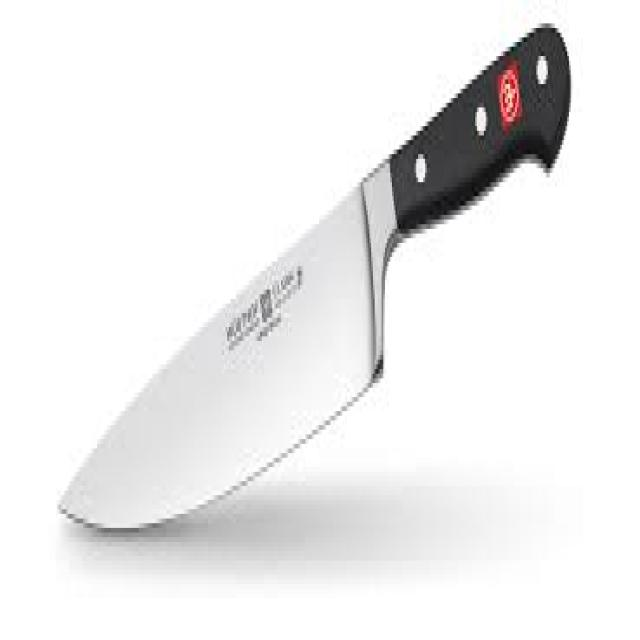knives: (54, 14, 576, 547)
